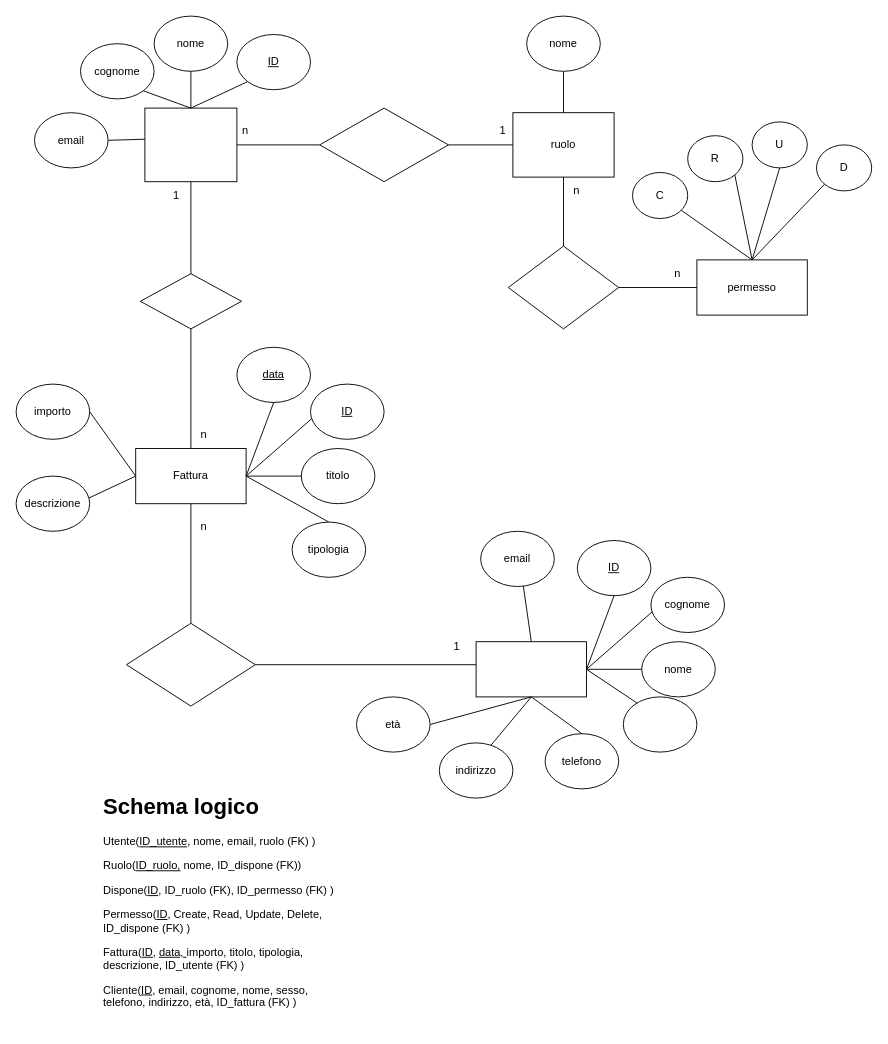
The diagram is 888 pixels wide and 1044 high, and some of its shapes have lost their labels. The centre of each missing label's shape, as x and y in pixels:
"cliente" goes at [530,669].
"dispone" goes at [563,287].
"emette" goes at [190,301].
"intestata" goes at [190,664].
"occupa" goes at [383,144].
"sesso" goes at [659,724].
"Utente" goes at [190,144].
